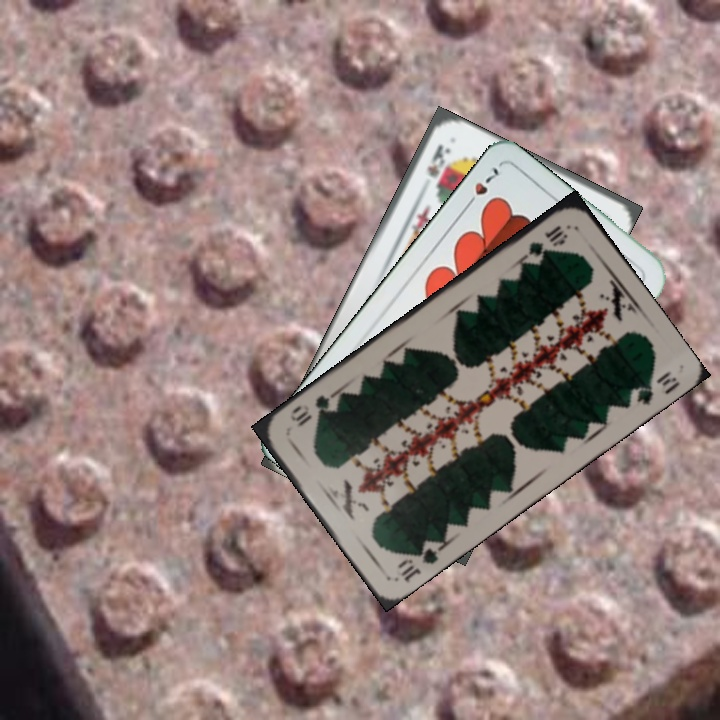G10: (518, 221, 570, 267), (393, 540, 445, 585)
H7: (460, 162, 502, 212)
SK: (423, 140, 453, 180)
